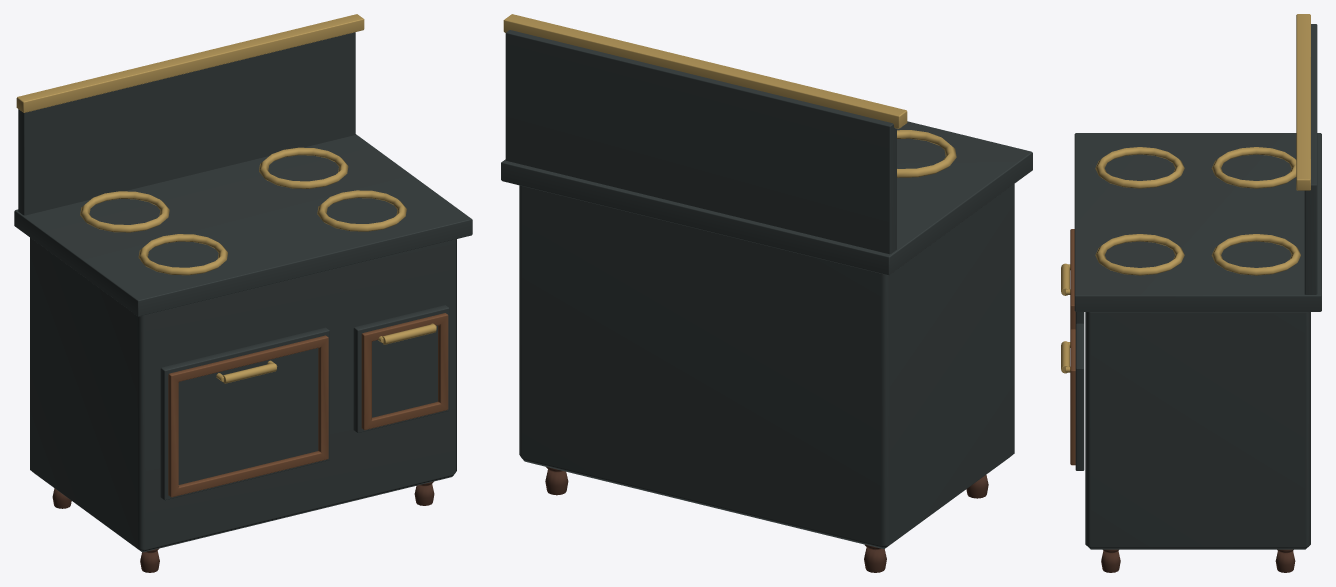
The model's file is rpg-mansion-range-01.glb.
3 views of the same model, side by side, from view 1: azimuth 30°, elevation 25°; view 2: azimuth 150°, elevation 25°; view 3: azimuth 270°, elevation 25° (orthographic). The views are drawn at different scales.
Parts seen in each view (by area): view 1: rpg-mansion-range-01; view 2: rpg-mansion-range-01; view 3: rpg-mansion-range-01.
Boxes of the visible parts, bbox=[...] form: rpg-mansion-range-01: bbox=[14, 14, 472, 572]; rpg-mansion-range-01: bbox=[501, 14, 1032, 572]; rpg-mansion-range-01: bbox=[1061, 14, 1321, 572].
Size of the model in its own units: 1.07 by 1.22 by 0.71.
